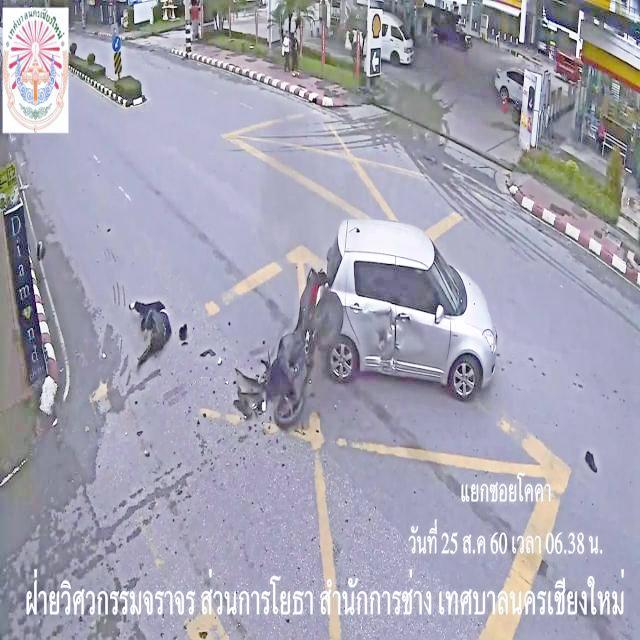Car: (326, 217, 498, 403)
Minor Accident: (240, 208, 499, 442)
Motor: (242, 267, 348, 434)
